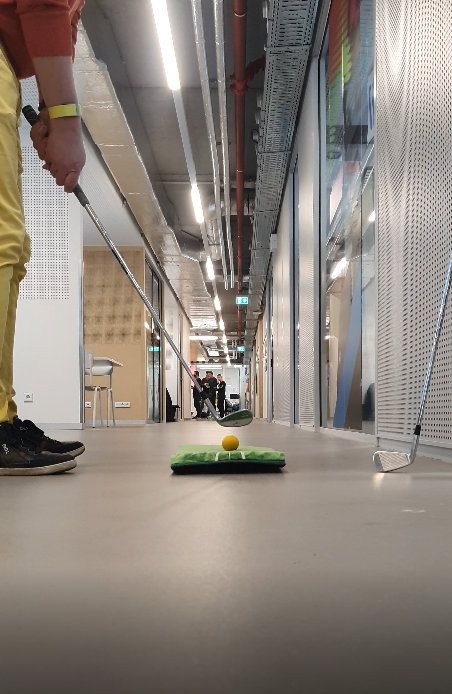golfball: (222, 435, 239, 451)
